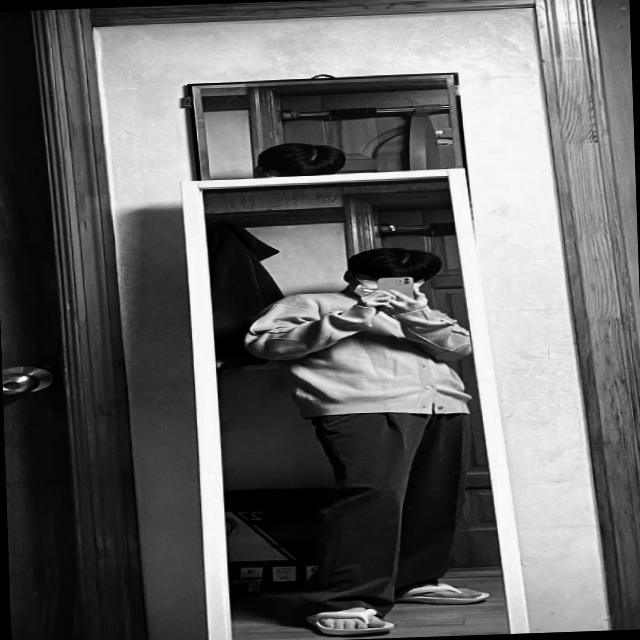cardigan: (239, 286, 477, 424)
slacks: (306, 402, 474, 621)
